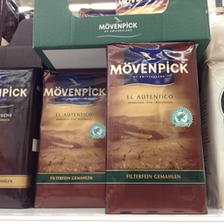coffee: (103, 43, 207, 215), (33, 67, 105, 209)
